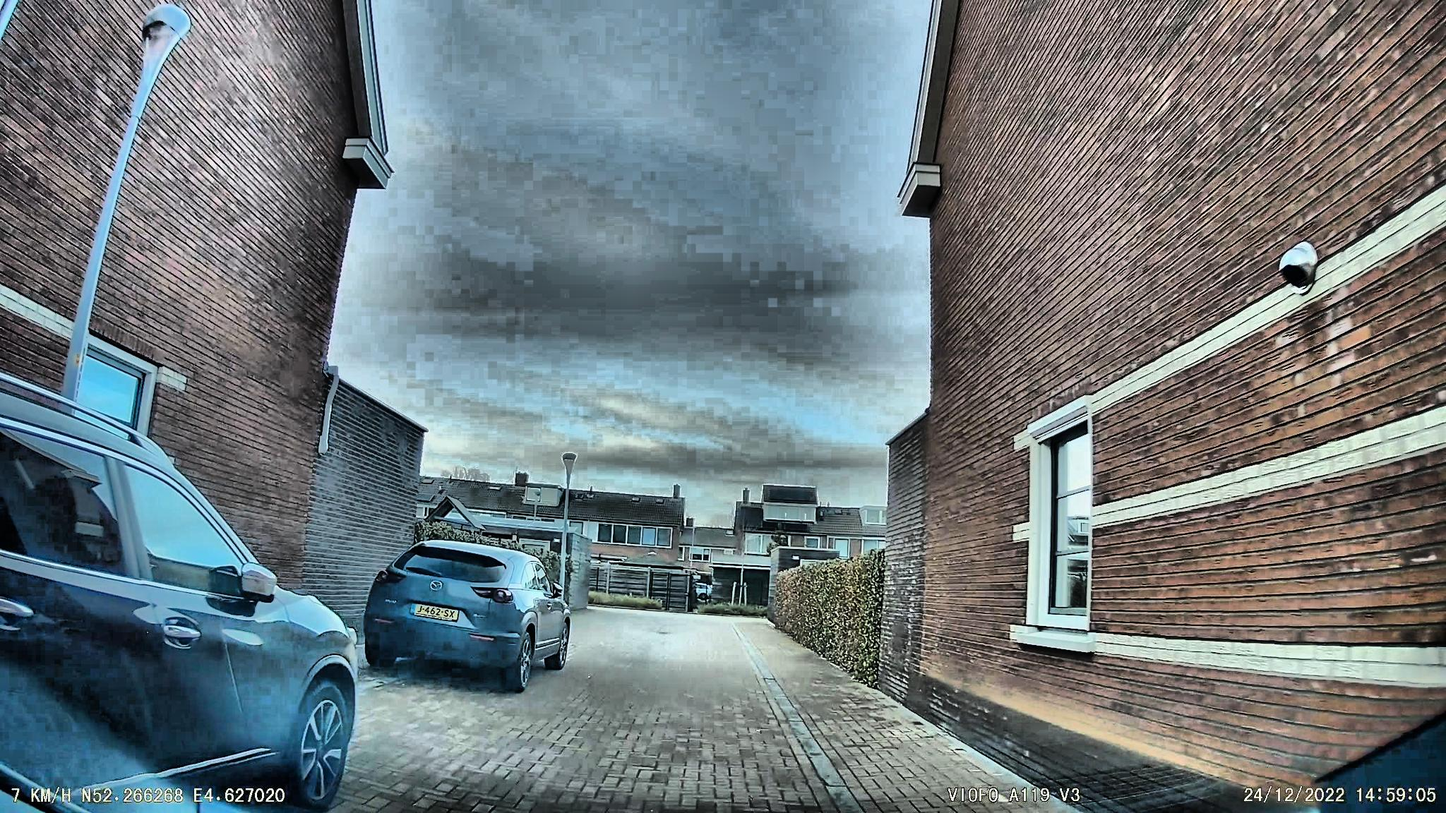Roads: (326, 611, 1076, 813)
